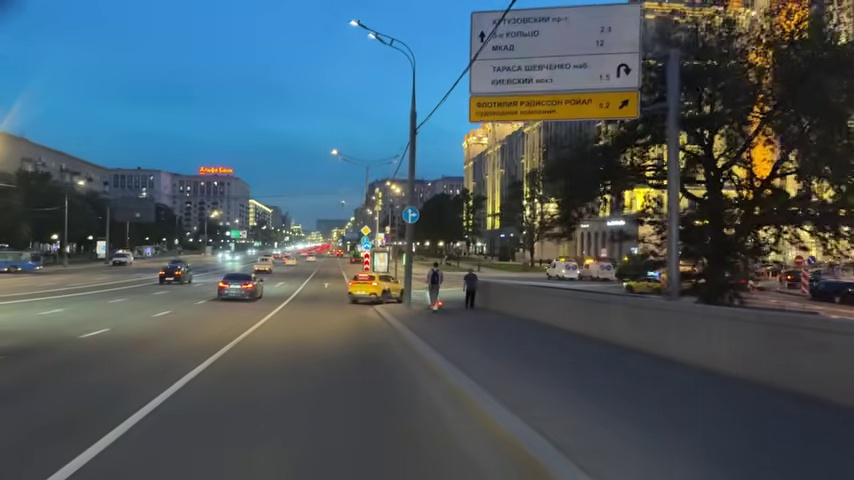acesa: (387, 183, 403, 198), (0, 137, 7, 164)
apagada: (349, 17, 374, 38), (350, 18, 367, 31), (328, 146, 342, 159)
